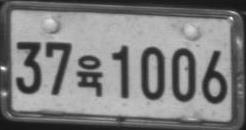0: (138, 45, 166, 100), (170, 48, 198, 102)
1: (108, 44, 135, 98)
3: (16, 41, 42, 95)
6: (201, 49, 228, 104)
7: (45, 41, 72, 96)
육: (75, 55, 103, 96)
